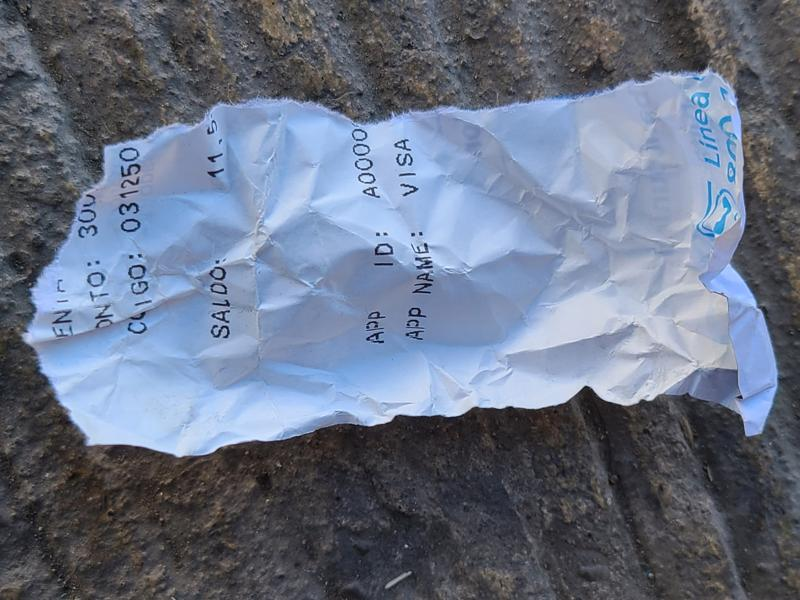papel: (25, 72, 779, 459)
